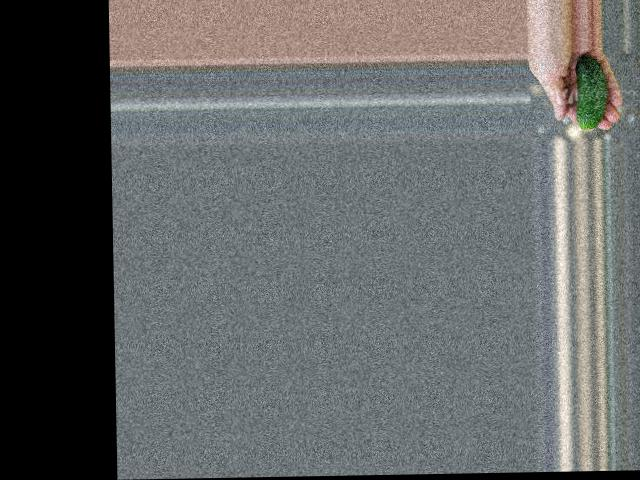cucumber: (575, 54, 609, 129)
